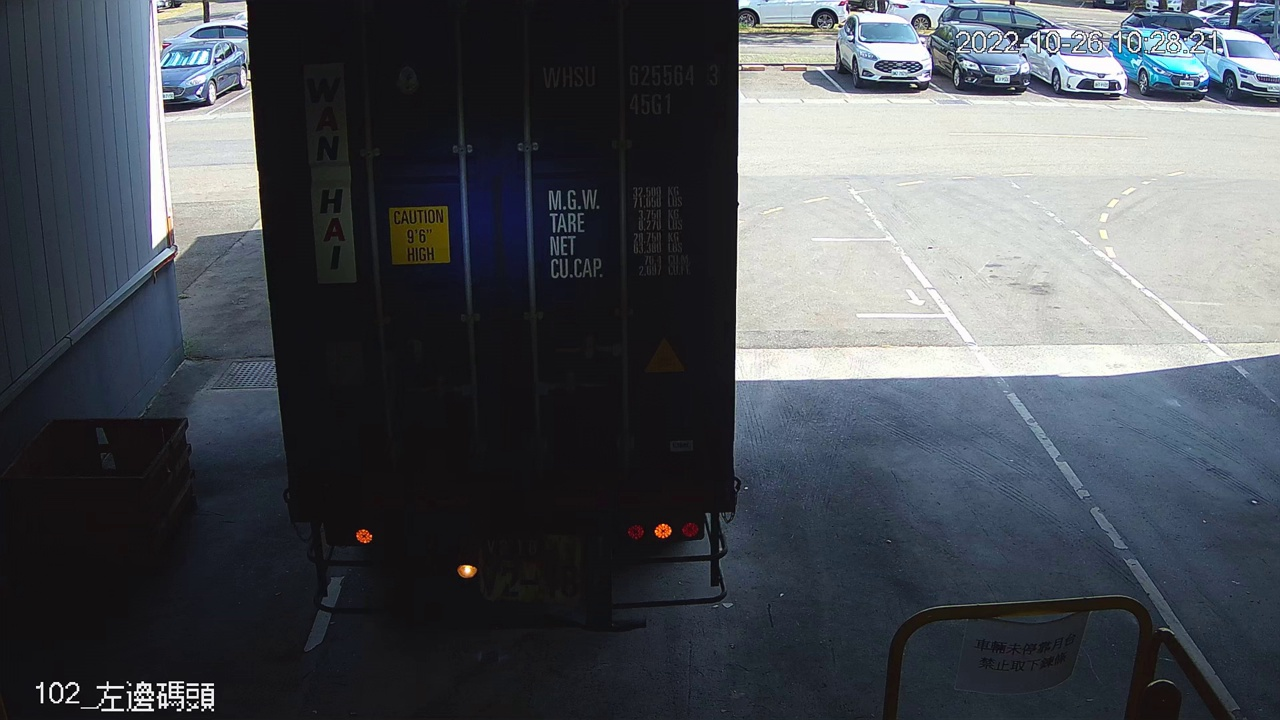container: (534, 51, 727, 127)
